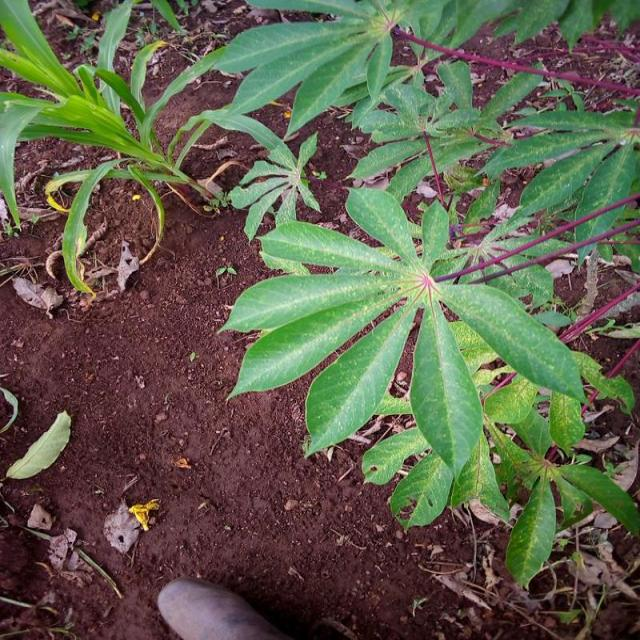cassava leaf: (218, 183, 586, 493), (408, 291, 483, 481)
